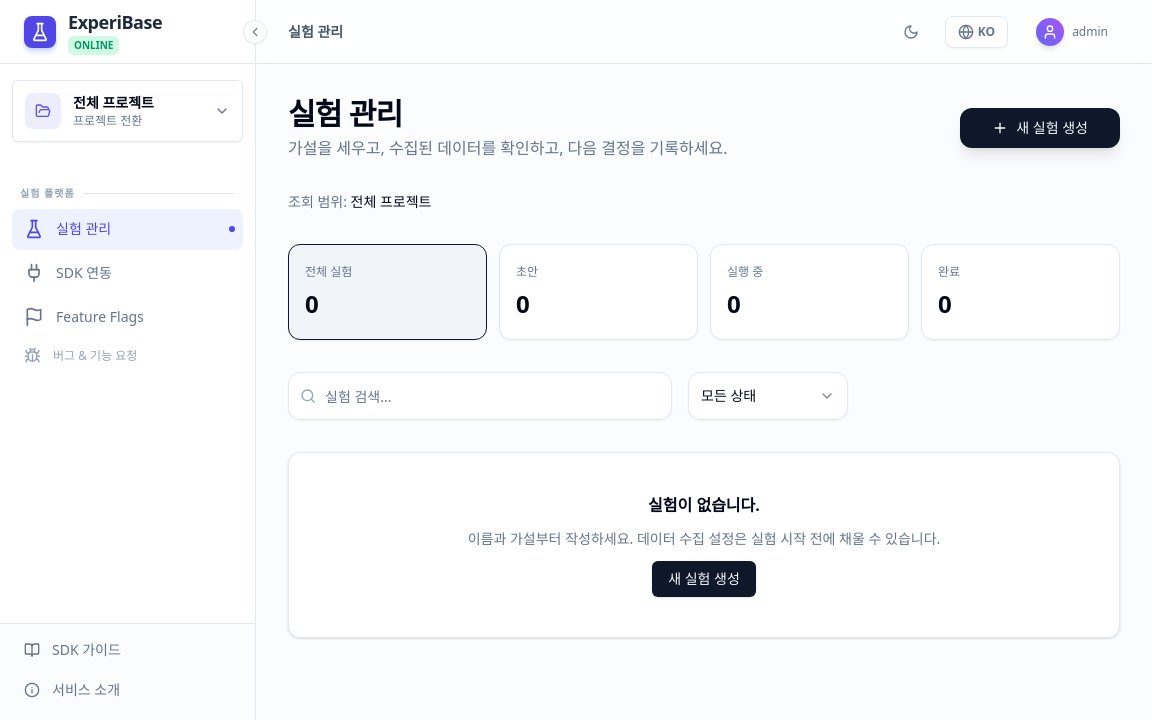
Scenario: App Component › lets signed-in users visit the introduction from the sidebar and return
The image size is (1152, 720).
Click the link "서비스 소개" at {"x": 72, "y": 690}, box [24,680,120,699]
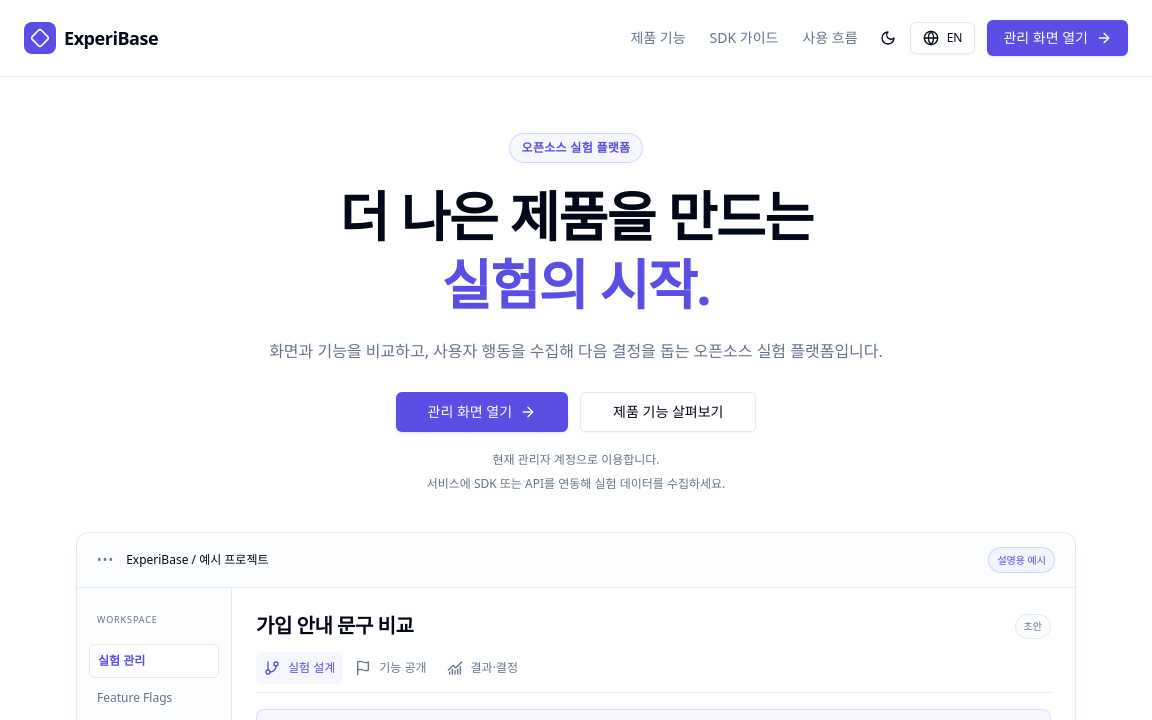
Click the link "관리 화면 열기" in the row of "사용 흐름" at {"x": 1058, "y": 38}, box [987,20,1128,56]
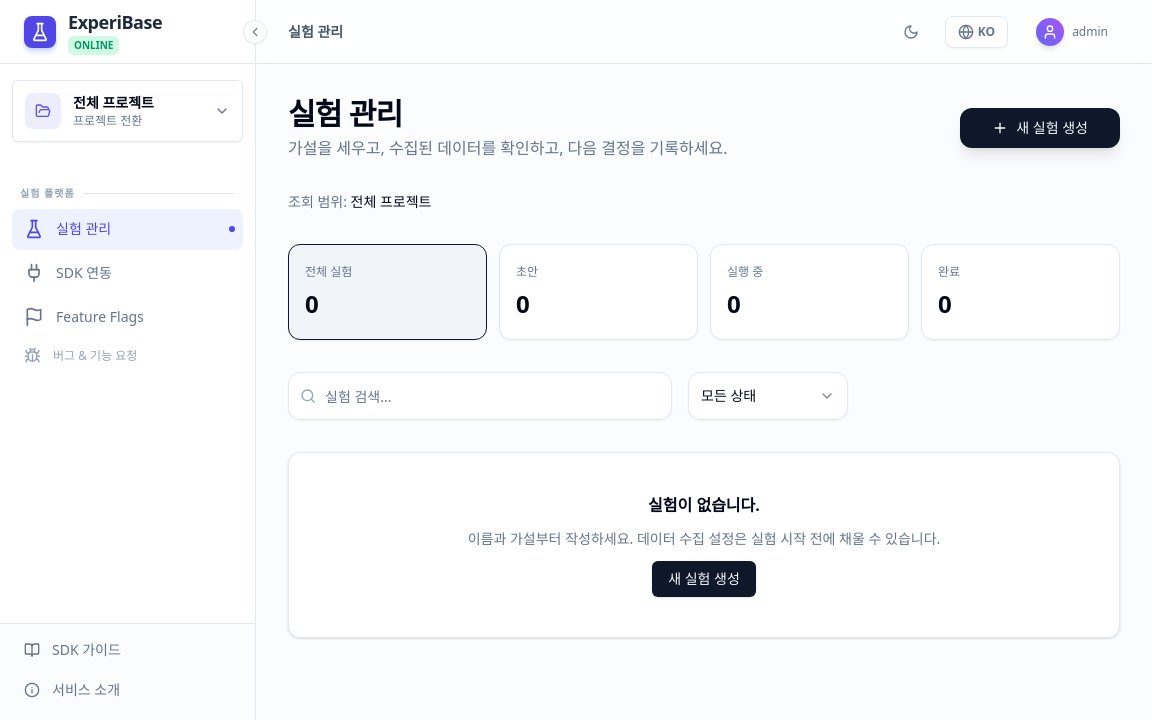
Expected: the element that starts with "ExperiBase" is shown, [0,0,256,719]
